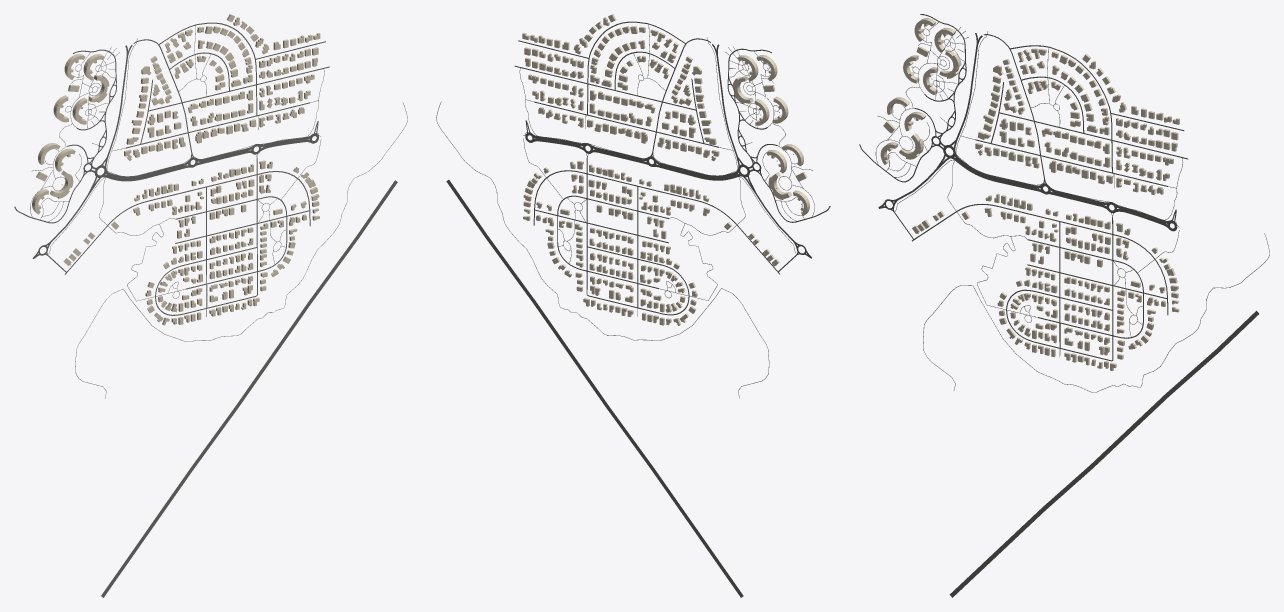
File: historic-palestine-07_30_3490_3248.glb
3 views of the same model, side by side, from view 1: azimuth 30°, elevation 25°; view 2: azimuth 150°, elevation 25°; view 3: azimuth 330°, elevation 25° (orthographic). The views are drawn at different scales.
Visible parts, largest first — view 1: Road כביש החוף, Road .005; view 2: Road כביש החוף, Road .005; view 3: Road כביש החוף, Road .005, Road דרך הים.
Part boxes in pixels (box(x1,y1,x2,y2)): Road כביש החוף: box(101, 180, 397, 597); Road .005: box(75, 102, 407, 398); Road כביש החוף: box(446, 180, 743, 597); Road .005: box(436, 101, 769, 398); Road כביש החוף: box(949, 310, 1258, 597); Road .005: box(923, 233, 1269, 392); Road דרך הים: box(912, 204, 1168, 315).
Bounding box in the file's own units: 1279 × 1718 × 16.7.
